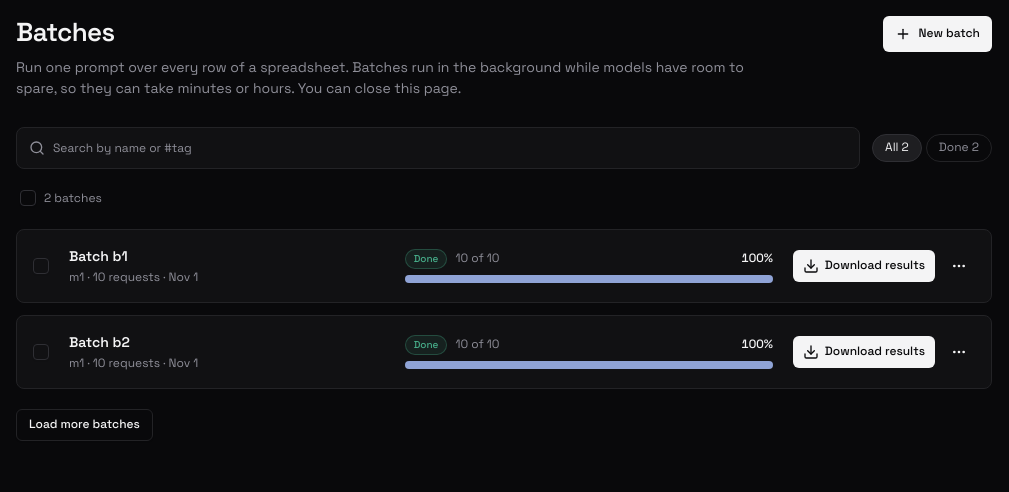
Scenario: older batches load on request, without repeating any
Expected: the heading "Batch b1" is shown, [69, 246, 128, 264]
Click the button "Load more batches" at (84,425), box [16, 409, 153, 441]
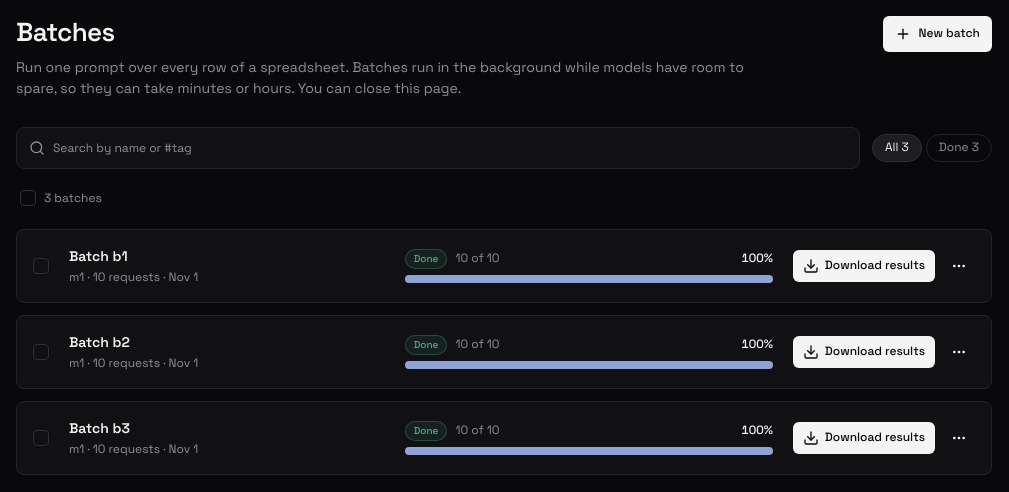
Expected: the heading "Batch b3" is shown, [69, 419, 130, 437]
Expected: the number of headings "Batch b2" is 1, [69, 333, 130, 351]
Expected: the button "Load more batches" is gone
